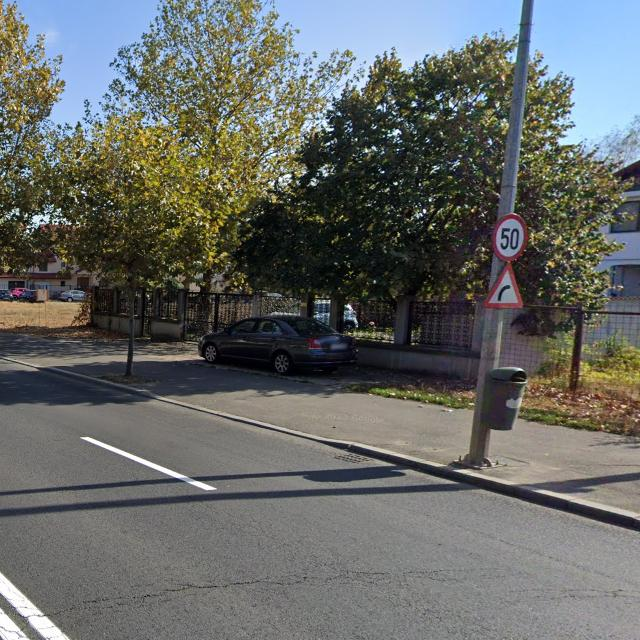forb_speed_over_50: (492, 214, 528, 262)
